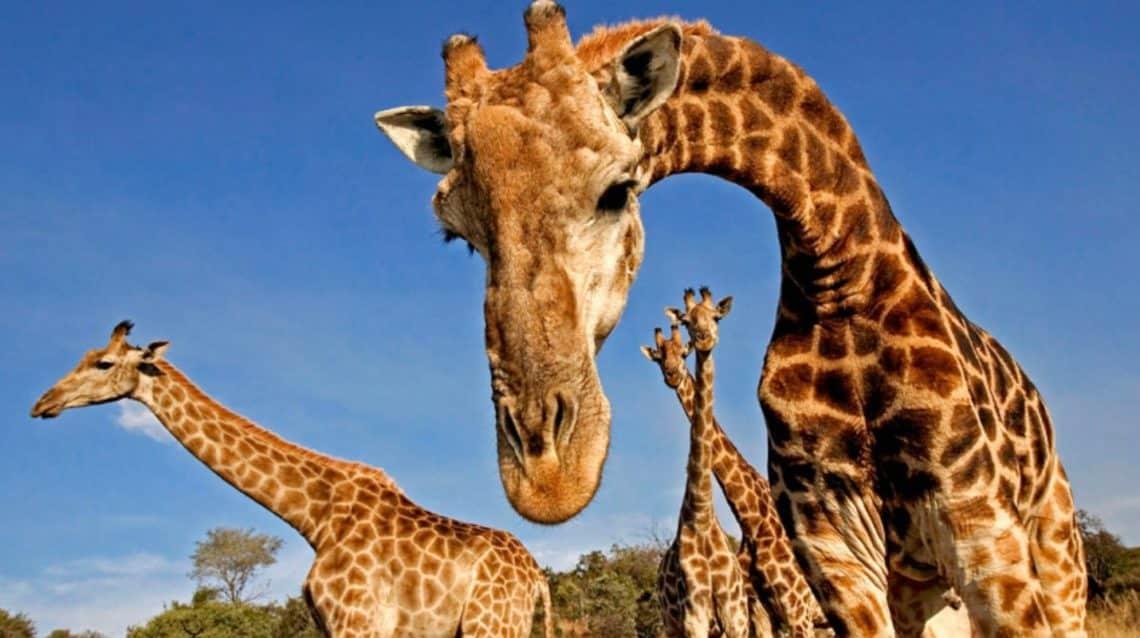Jirafa: (351, 5, 643, 556), (12, 315, 315, 578), (633, 266, 731, 396)
